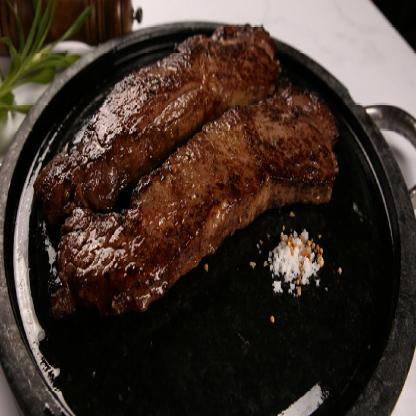Carne: (70, 94, 334, 298), (35, 21, 284, 198)
